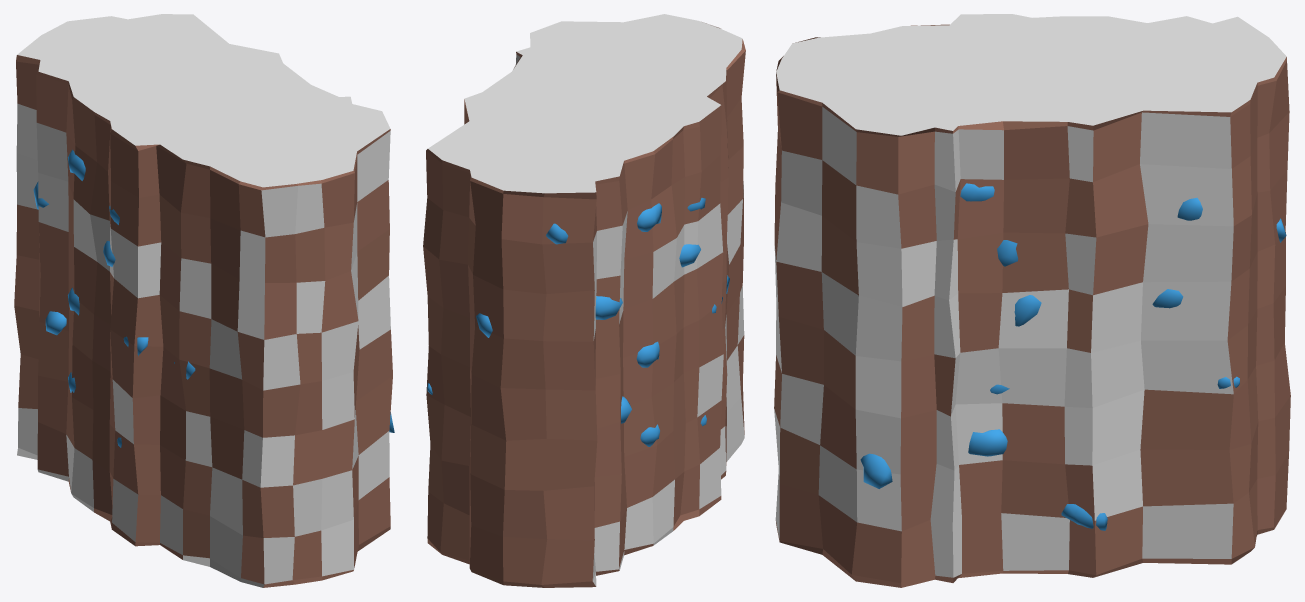
File: Lapis.fbx
3 renders of one model, left to right at view 1: azimuth 30°, elevation 25°; view 2: azimuth 150°, elevation 25°; view 3: azimuth 270°, elevation 25°, orthographic. The views are drawn at different scales.
Visible parts, largest first — view 1: Plan; view 2: Plan; view 3: Plan.
Boxes of the visible parts, x1=… form: Plan: x1=14, y1=14, x2=394, y2=587; Plan: x1=423, y1=14, x2=745, y2=587; Plan: x1=774, y1=14, x2=1290, y2=587.
Bounding box in the file's own units: 1000 × 1704 × 1764.
